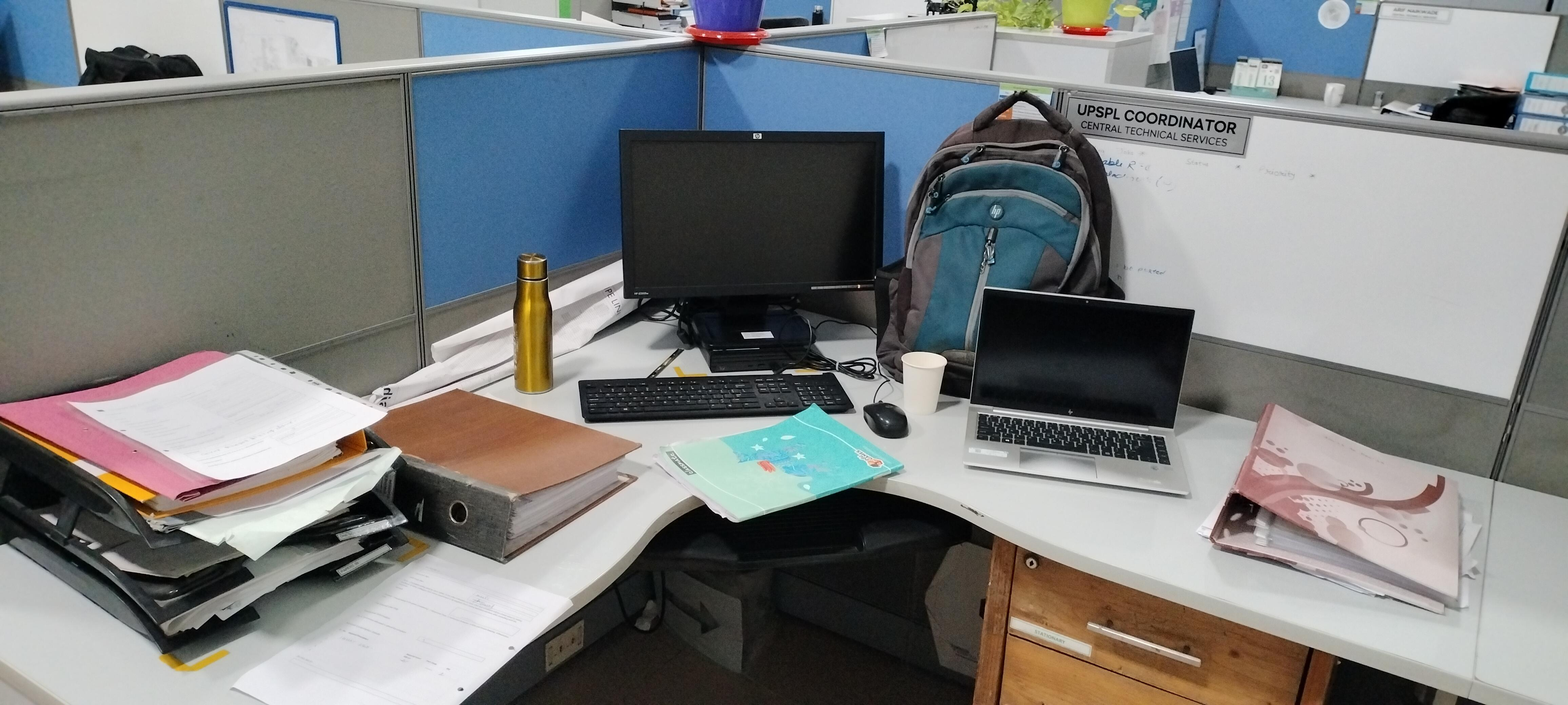bag: (890, 89, 1104, 312)
book: (637, 410, 905, 523)
bottle: (507, 250, 560, 404)
desktop: (612, 123, 889, 344)
file: (1204, 393, 1485, 622), (380, 387, 645, 566)
filetray: (0, 336, 409, 658)
keyboard: (570, 372, 859, 426)
laptop: (962, 283, 1199, 506)
mug: (900, 345, 949, 425)
nameplate: (1066, 87, 1255, 165)
page: (218, 596, 590, 704)
vase: (681, 0, 772, 51)
